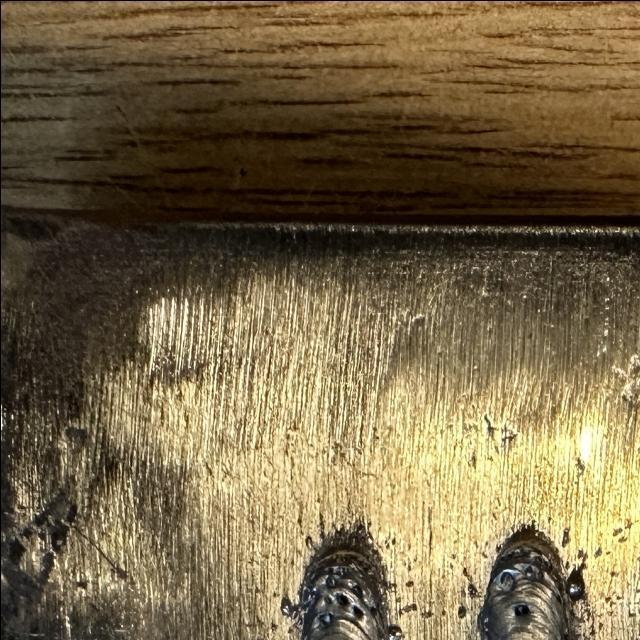Porosity: (311, 612, 332, 625), (499, 571, 513, 590), (513, 603, 530, 618), (334, 591, 350, 606), (351, 603, 363, 620), (322, 575, 337, 588), (350, 584, 362, 597), (368, 603, 376, 615), (541, 553, 548, 566), (523, 565, 532, 575), (532, 555, 541, 564), (324, 593, 331, 603), (536, 570, 543, 579), (507, 549, 514, 557), (548, 558, 551, 569), (500, 555, 504, 560)
Spatters: (564, 569, 583, 599), (397, 602, 418, 616), (465, 581, 479, 600), (387, 625, 402, 640), (279, 598, 289, 616), (560, 527, 569, 547), (591, 545, 602, 559), (420, 607, 432, 619), (457, 604, 465, 618), (611, 527, 622, 537), (305, 535, 312, 548), (623, 522, 632, 530), (404, 580, 413, 587), (617, 536, 627, 542), (269, 623, 276, 630), (604, 550, 611, 555), (391, 537, 395, 545), (271, 591, 276, 597), (385, 543, 389, 549), (384, 538, 386, 544)
